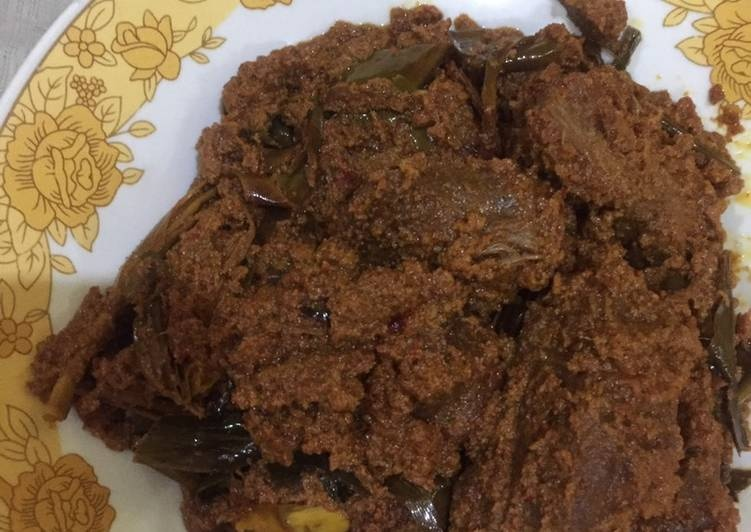rendang: (138, 97, 732, 524)
